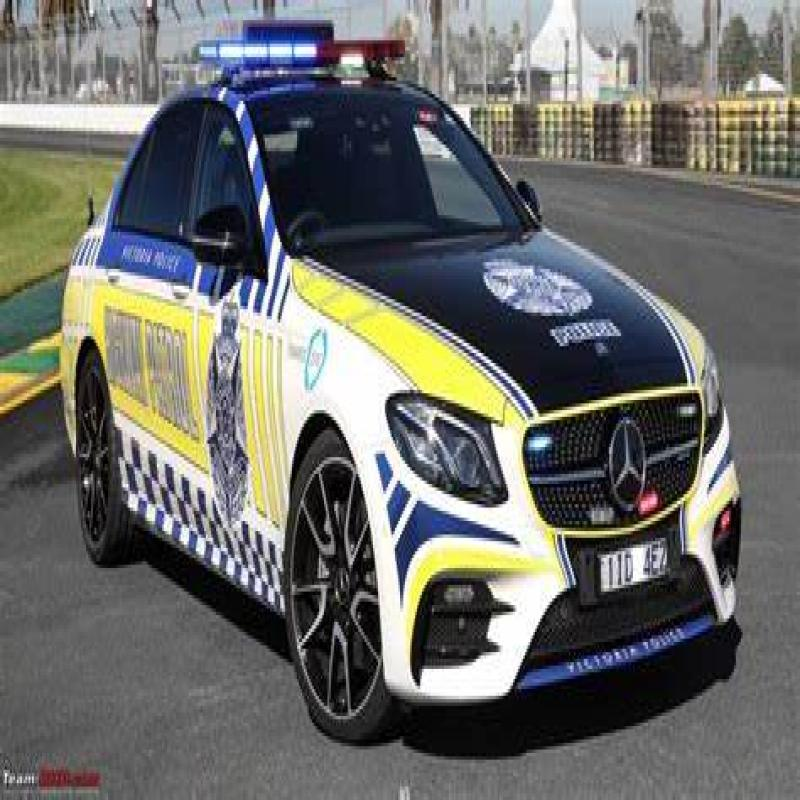AmbulanceSiren: (186, 3, 417, 92)
